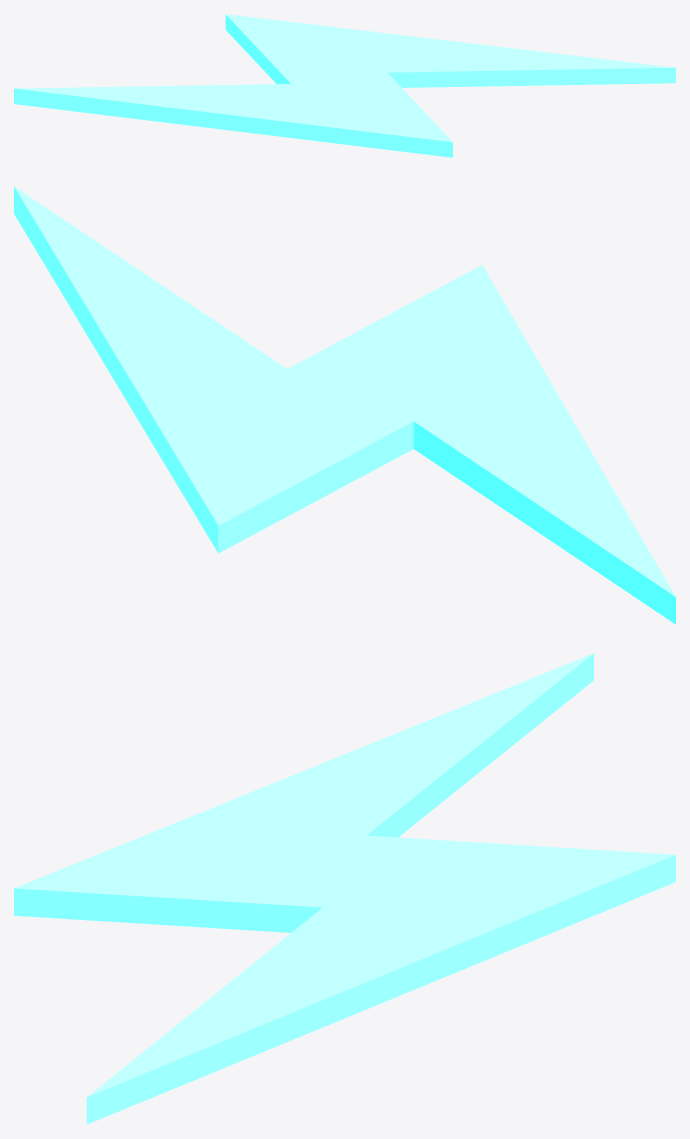
The model's file is mesh_BoostGauge_Star1.fbx.
3 renders of one model, top to bottom at view 1: azimuth 30°, elevation 25°; view 2: azimuth 150°, elevation 25°; view 3: azimuth 270°, elevation 25°, orthographic. The views are drawn at different scales.
Visible parts, largest first — view 1: mesh_FX_BoostPlateformeFeedback1F; view 2: mesh_FX_BoostPlateformeFeedback1F; view 3: mesh_FX_BoostPlateformeFeedback1F.
Boxes of the visible parts, <box> form: mesh_FX_BoostPlateformeFeedback1F: <box>14,14,675,157</box>; mesh_FX_BoostPlateformeFeedback1F: <box>14,186,675,624</box>; mesh_FX_BoostPlateformeFeedback1F: <box>14,653,675,1124</box>.
Bounding box in the file's own units: 0.5937 × 0.017 × 0.3739.
